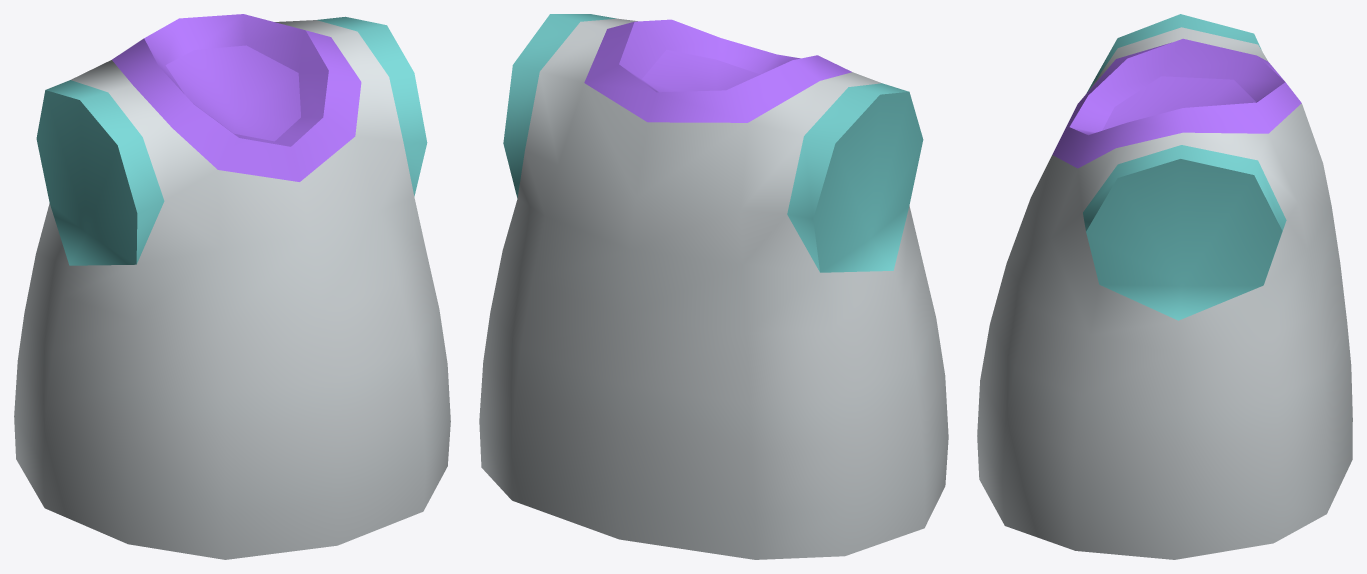
The model's file is Top_57.fbx.
3 views of the same model, side by side, from view 1: azimuth 30°, elevation 25°; view 2: azimuth 150°, elevation 25°; view 3: azimuth 270°, elevation 25° (orthographic). The views are drawn at different scales.
Visible parts, largest first — view 1: Top_57; view 2: Top_57; view 3: Top_57.
Part boxes in pixels (x1,y1,x2,y2): Top_57: (14, 14, 450, 559); Top_57: (479, 14, 948, 559); Top_57: (977, 14, 1352, 559).
Bounding box in the file's own units: 41 × 42.68 × 35.79.
